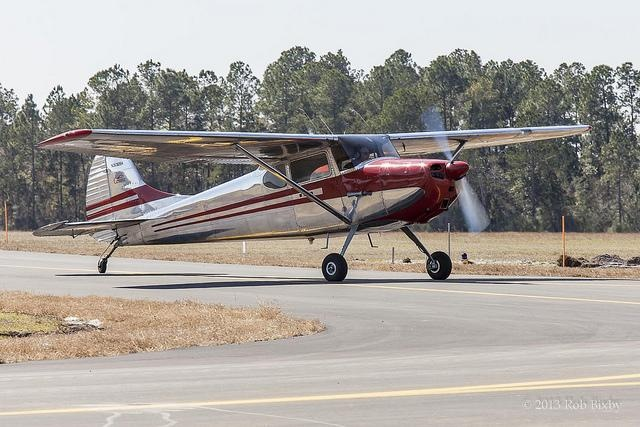airplane: (22, 123, 592, 281)
